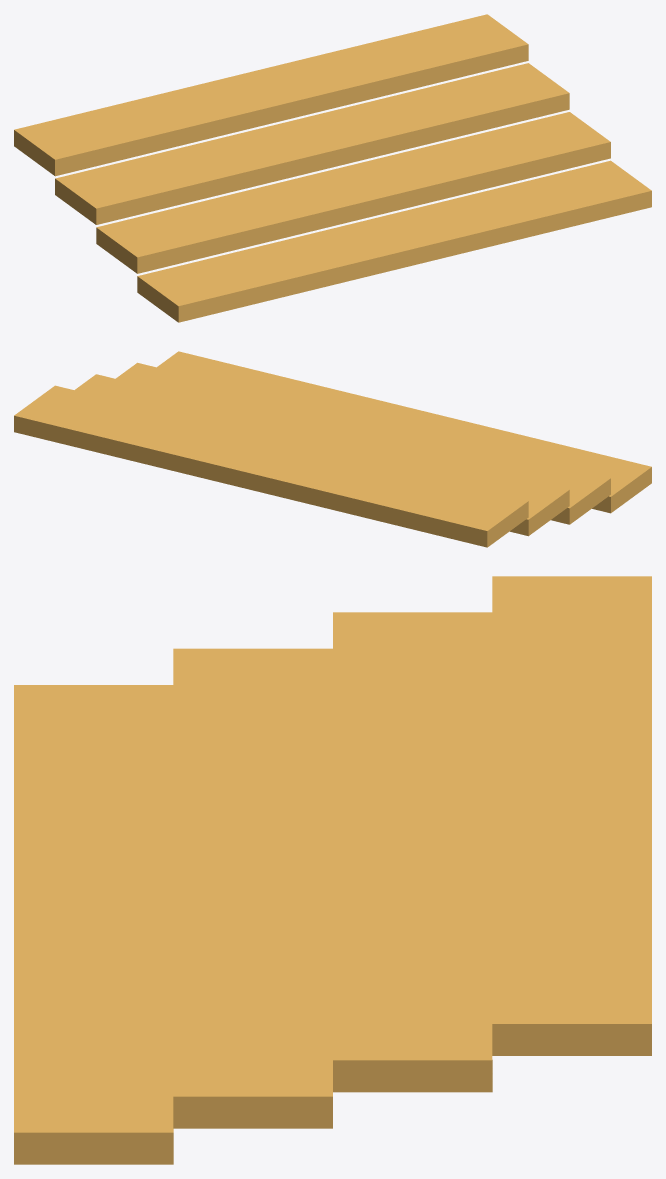
The model's file is OU_AR_KidsAnim_01_D.fbx.
3 renders of one model, top to bottom at view 1: azimuth 30°, elevation 25°; view 2: azimuth 150°, elevation 25°; view 3: azimuth 270°, elevation 25°, orthographic. The views are drawn at different scales.
Visible parts, largest first — view 1: OU_AR_KidsAnim_01_D, OU_AR_KidsAnim_01_D.001; view 2: OU_AR_KidsAnim_01_D, OU_AR_KidsAnim_01_D.001; view 3: OU_AR_KidsAnim_01_D, OU_AR_KidsAnim_01_D.001.
Part boxes in pixels (<box>): OU_AR_KidsAnim_01_D: <box>14,14,610,273</box>; OU_AR_KidsAnim_01_D.001: <box>55,63,651,322</box>; OU_AR_KidsAnim_01_D: <box>14,362,610,547</box>; OU_AR_KidsAnim_01_D.001: <box>74,351,651,536</box>; OU_AR_KidsAnim_01_D: <box>173,576,651,1128</box>; OU_AR_KidsAnim_01_D.001: <box>14,612,492,1164</box>.
Size of the model in its own units: 450 by 66 by 271.
